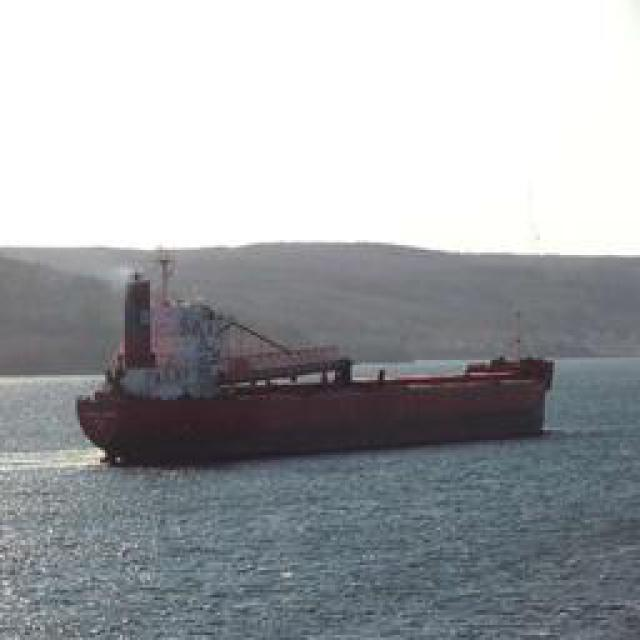Ship: (79, 346, 552, 461)
